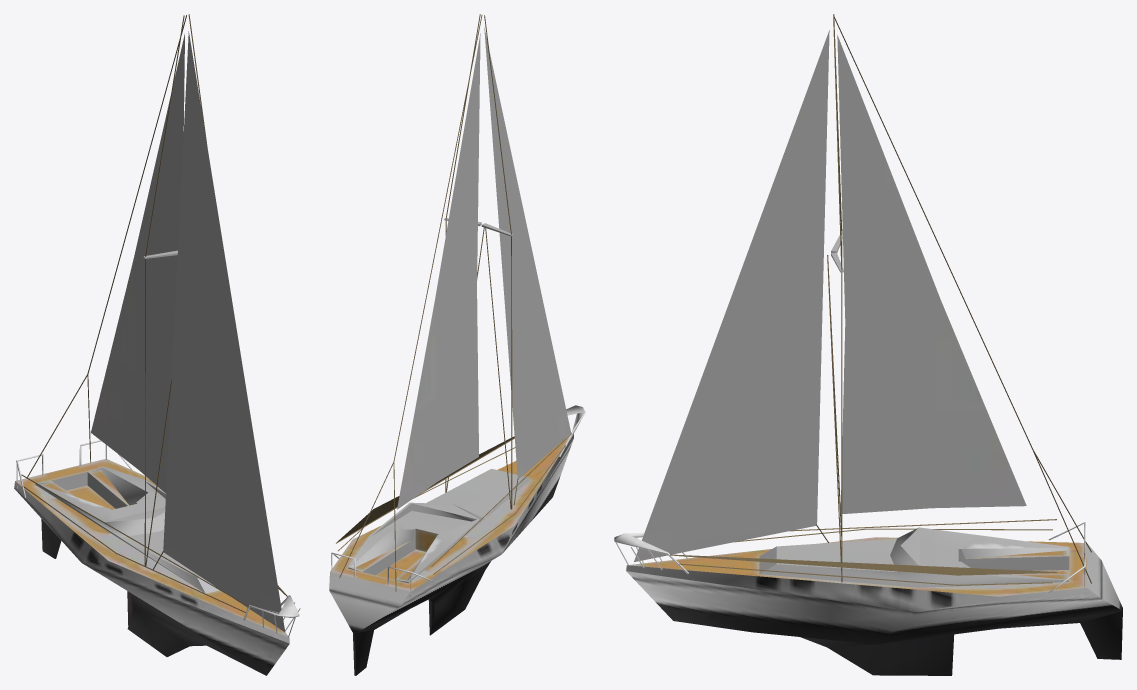
Rendered from bay-sailboat.lod1.glb.
3 views of the same model, side by side, from view 1: azimuth 30°, elevation 25°; view 2: azimuth 150°, elevation 25°; view 3: azimuth 270°, elevation 25° (orthographic). The views are drawn at different scales.
Parts seen in each view (by area): view 1: Sailboat_01 - Default_0; view 2: Sailboat_01 - Default_0; view 3: Sailboat_01 - Default_0.
Part boxes in pixels (x1,y1,x2,y2): Sailboat_01 - Default_0: [14, 14, 300, 675]; Sailboat_01 - Default_0: [329, 14, 585, 675]; Sailboat_01 - Default_0: [614, 14, 1122, 675].
Bounding box in the file's own units: 2.62 × 12.87 × 8.99.
1 material, 1 textured.
